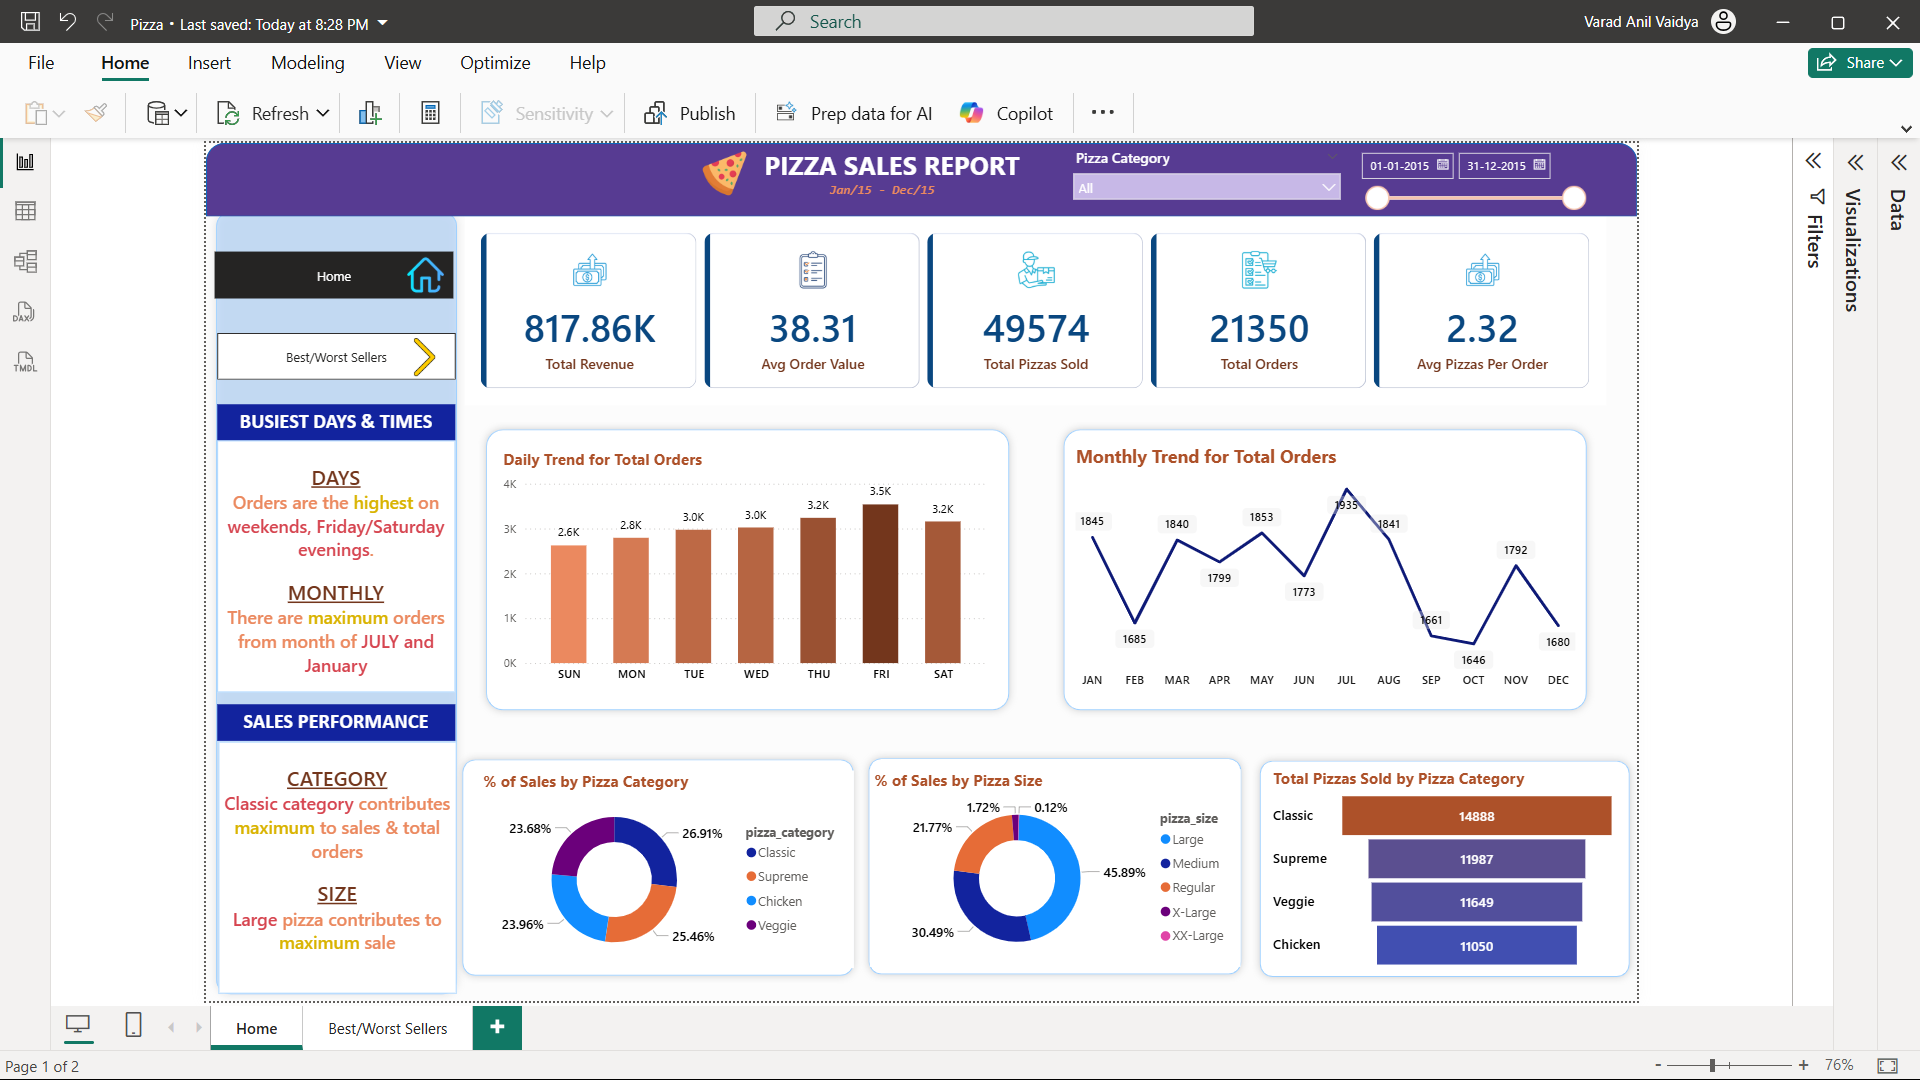

The page's visual inventory and layout, read from the dashboard file:
{"tool":"powerbi","page":{"name":"Home","canvas":[1500,900],"ordinal":0},"visuals":[{"type":"shape","box":[3.2,64.3,268.5,836.2],"z":0},{"type":"textbox","box":[11.3,273.4,249.3,38.6],"z":1000},{"type":"cardVisual","fields":{"Data":["pizza_sales.Total Revenue","pizza_sales.Avg Order Value","pizza_sales.Total Pizzas Sold","pizza_sales.Total Orders","pizza_sales.Avg Pizzas Per Order"]},"box":[271.8,77.2,1196.4,197.8],"z":2000},{"type":"shape","box":[0,0,1500.3,77.2],"z":3000},{"type":"textbox","box":[580.5,0,289.5,45],"z":4000},{"type":"textbox","box":[648.1,33.8,152.8,30.6],"z":5000},{"type":"image","box":[490.5,8,107.7,48.2],"z":6000},{"type":"shape","box":[285.9,292,564.4,310.4],"z":7000},{"type":"columnChart","title":"Daily Trend for Total Orders","fields":{"Category":["pizza_sales.Order Day"],"Y":["pizza_sales.Total Orders"]},"box":[306.8,319.4,517.8,255.7],"z":8000},{"type":"shape","box":[890.5,292,564.4,310.4],"z":9000},{"type":"areaChart","title":"Monthly Trend for Total Orders","fields":{"Y":["pizza_sales.Total Orders"],"Category":["pizza_sales.Order Month"]},"box":[906.6,316.1,533.9,265.3],"z":10000},{"type":"shape","box":[260.5,638.4,426.1,242.8],"z":11000},{"type":"shape","box":[686.6,636.8,406.8,242.8],"z":12000},{"type":"shape","box":[1096.4,640,403.6,242.8],"z":13000},{"type":"donutChart","title":"% of Sales by Pizza Category","fields":{"Category":["pizza_sales.pizza_category"],"Y":["pizza_sales.Total Revenue"]},"box":[286.2,657.7,394,207.4],"z":14000},{"type":"donutChart","title":"% of Sales by Pizza Size","fields":{"Y":["pizza_sales.Total Revenue"],"Category":["pizza_sales.pizza_size"]},"box":[696.3,656.1,389.2,207.4],"z":15000},{"type":"funnel","title":"Total Pizzas Sold by Pizza Category","fields":{"Category":["pizza_sales.pizza_category"],"Y":["pizza_sales.Total Pizzas Sold"]},"box":[1114,654.5,369.9,217.1],"z":16000},{"type":"textbox","box":[11.3,312,249.3,263.7],"z":17000},{"type":"textbox","box":[11.3,588.6,249.3,38.6],"z":18000},{"type":"textbox","box":[12.9,627.1,249.3,263.7],"z":19000},{"type":"slicer","fields":{"Values":["pizza_sales.pizza_category"]},"box":[898.9,0,300.7,64.3],"z":20000},{"type":"slicer","fields":{"Values":["pizza_sales.order_date"]},"box":[1199.6,0,255.7,77.2],"z":21000},{"type":"pageNavigator","box":[9.6,114.2,250.9,49.9],"z":21001},{"type":"pageNavigator","box":[11.3,199.4,250.9,49.9],"z":21002},{"type":"image","box":[180.1,204.2,99.7,40.2],"z":21004},{"type":"image","box":[210.7,112.6,38.6,51.5],"z":21005}]}

Visuals, with their boxes on the page's 1500x900 design canvas (x1, y1, x2, y2). These are canvas units, not pixel positions in the 1920x1080 screenshot, which may show the page scaled, cropped or inside an application window:
shape: [3,64,272,900]
textbox: [11,273,261,312]
cardVisual - pizza_sales.Total Revenue x pizza_sales.Avg Order Value: [272,77,1468,275]
shape: [0,0,1500,77]
textbox: [580,0,870,45]
textbox: [648,34,801,64]
image: [490,8,598,56]
shape: [286,292,850,602]
"Daily Trend for Total Orders" columnChart: [307,319,825,575]
shape: [890,292,1455,602]
"Monthly Trend for Total Orders" areaChart: [907,316,1440,581]
shape: [260,638,687,881]
shape: [687,637,1093,880]
shape: [1096,640,1500,883]
"% of Sales by Pizza Category" donutChart: [286,658,680,865]
"% of Sales by Pizza Size" donutChart: [696,656,1086,864]
"Total Pizzas Sold by Pizza Category" funnel: [1114,654,1484,872]
textbox: [11,312,261,576]
textbox: [11,589,261,627]
textbox: [13,627,262,891]
slicer - pizza_sales.pizza_category: [899,0,1200,64]
slicer - pizza_sales.order_date: [1200,0,1455,77]
pageNavigator: [10,114,260,164]
pageNavigator: [11,199,262,249]
image: [180,204,280,244]
image: [211,113,249,164]
